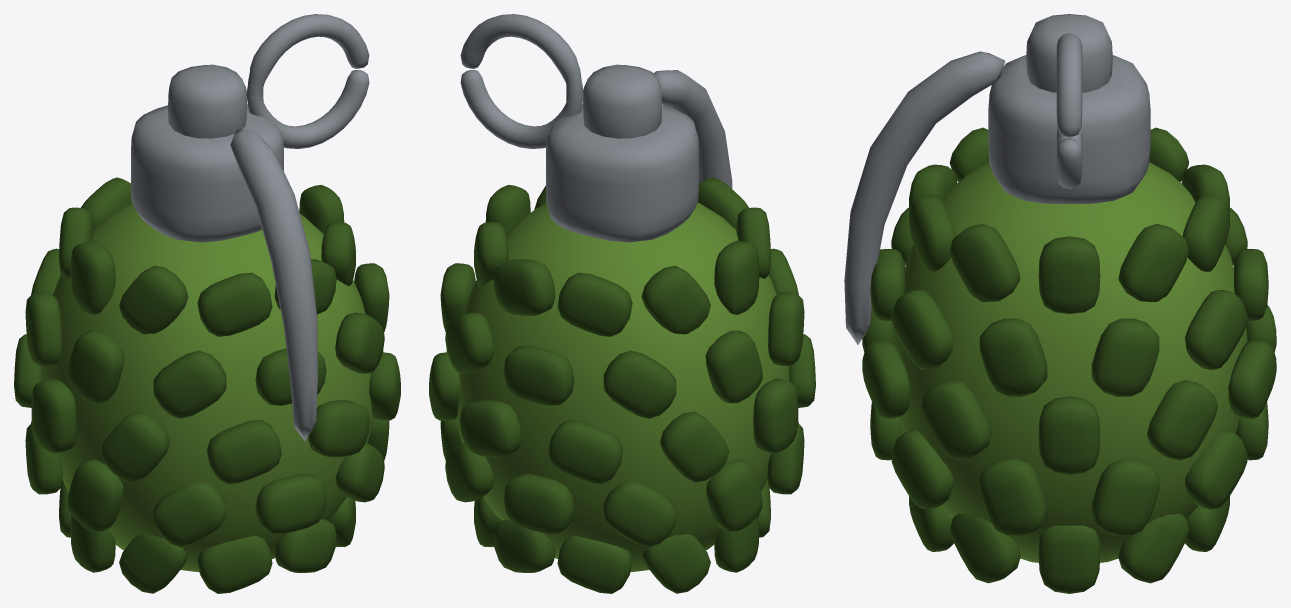
File: grenade.glb
3 renders of one model, left to right at view 1: azimuth 30°, elevation 25°; view 2: azimuth 150°, elevation 25°; view 3: azimuth 270°, elevation 25°, orthographic. The views are drawn at different scales.
Parts seen in each view (by area): view 1: WP_GrenadeBody; view 2: WP_GrenadeBody; view 3: WP_GrenadeBody.
Boxes of the visible parts, x1,y1,x2,y2 form: WP_GrenadeBody: (14,14,400,593); WP_GrenadeBody: (429,14,815,593); WP_GrenadeBody: (844,14,1276,593).
Bounding box in the file's own units: 0.2187 × 0.3225 × 0.2248.
